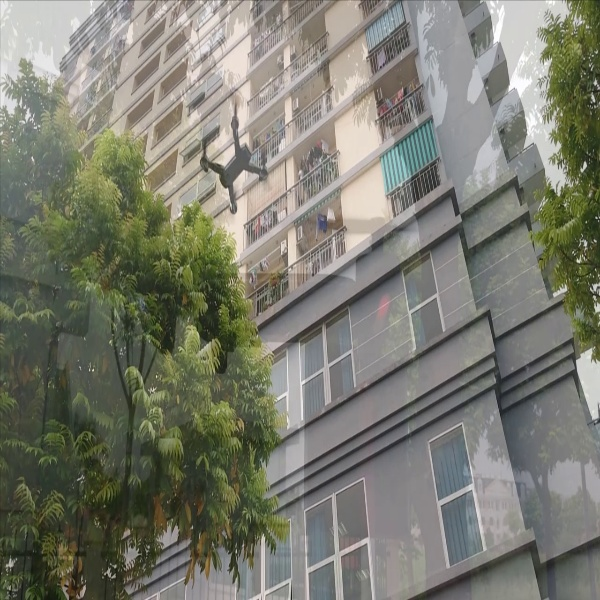drone: (183, 105, 287, 218)
